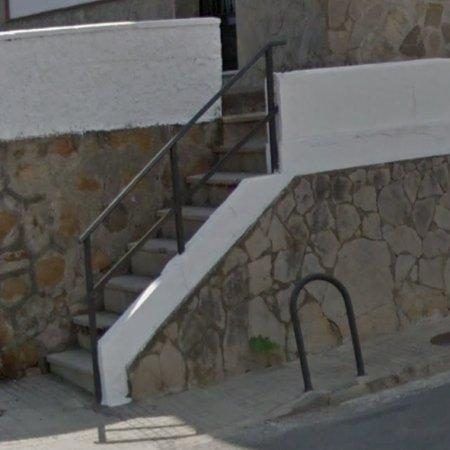stairs: (182, 91, 268, 240), (98, 216, 177, 336), (48, 315, 91, 392)
